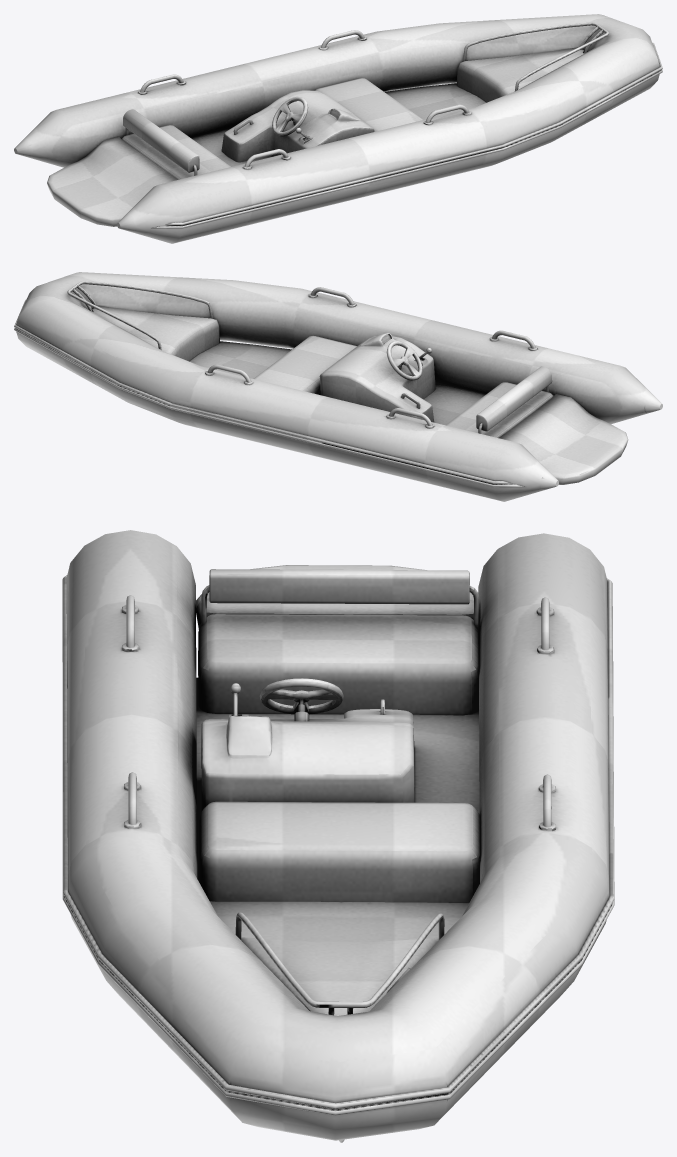
File: zodiac.dae
The picture shows the model from 3 angles, top to bottom: view 1: azimuth 30°, elevation 25°; view 2: azimuth 150°, elevation 25°; view 3: azimuth 270°, elevation 25°; orthographic projection. The views are drawn at different scales.
Parts seen in each view (by area): view 1: Free 3D Zodiac Boat Model OBJ; view 2: Free 3D Zodiac Boat Model OBJ; view 3: Free 3D Zodiac Boat Model OBJ.
Part boxes in pixels (left/top/right/bottom): Free 3D Zodiac Boat Model OBJ: left=14, top=14, right=662, bottom=243; Free 3D Zodiac Boat Model OBJ: left=14, top=272, right=662, bottom=501; Free 3D Zodiac Boat Model OBJ: left=62, top=530, right=614, bottom=1142.
Bounding box in the file's own units: 6.22 × 2.54 × 1.01.
